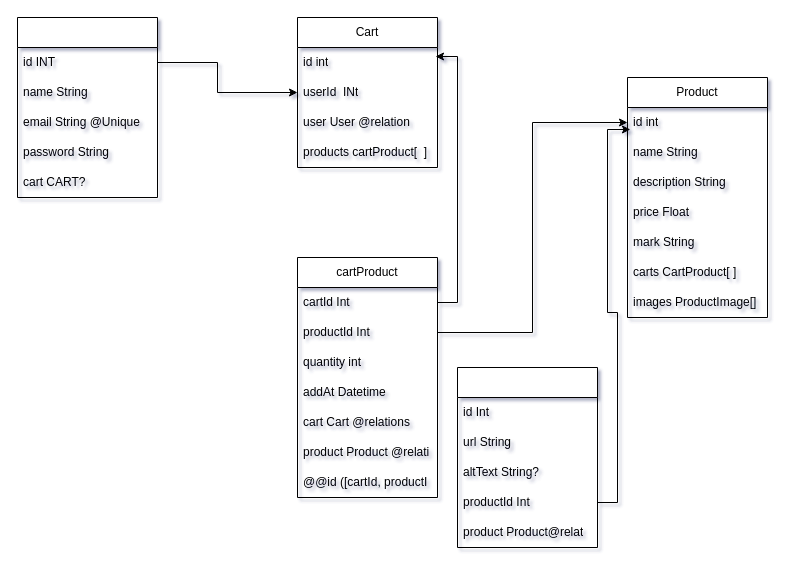
This 791x571 diagram has some shape labels left out. The box of each missing label's shape, as (x1, y1, x2, y2) in pixels:
ProductImage: (456, 366, 598, 548)
user: (16, 16, 158, 198)
